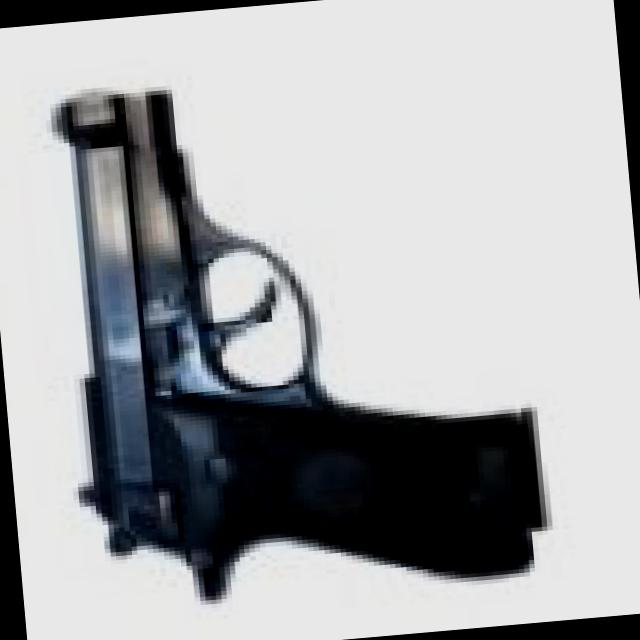handgun: (22, 54, 562, 623)
